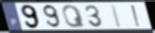3: (84, 5, 103, 29)
9: (20, 4, 43, 30), (42, 4, 62, 29)
I: (110, 4, 124, 29), (130, 4, 143, 28)
Q: (61, 4, 87, 29)
